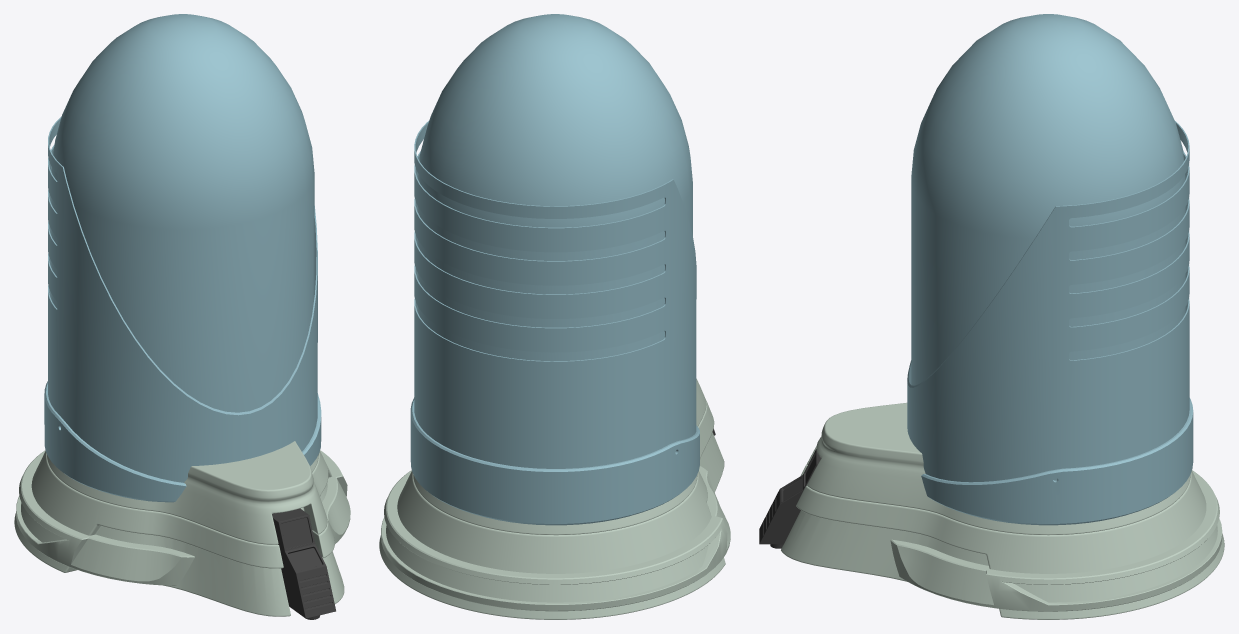
File: Tank.fbx
The picture shows the model from 3 angles, left to right: view 1: azimuth 30°, elevation 25°; view 2: azimuth 150°, elevation 25°; view 3: azimuth 270°, elevation 25°; orthographic projection. The views are drawn at different scales.
Parts seen in each view (by area): view 1: Glass_Tank, Metal_Outer, Metal_Base_Bottom, Metal_Base_Top, Metal_Attachment, Computer; view 2: Metal_Outer, Glass_Tank, Metal_Base_Bottom, Metal_Attachment, Metal_Base_Top; view 3: Metal_Outer, Glass_Tank, Metal_Base_Bottom, Metal_Base_Top, Metal_Attachment, Computer.
Boxes of the visible parts, x1=… form: Glass_Tank: x1=51, y1=14, x2=314, y2=412; Metal_Outer: x1=44, y1=116, x2=321, y2=502; Metal_Base_Bottom: x1=14, y1=451, x2=344, y2=616; Metal_Base_Top: x1=47, y1=441, x2=327, y2=544; Metal_Attachment: x1=16, y1=450, x2=350, y2=585; Computer: x1=272, y1=508, x2=335, y2=618; Metal_Outer: x1=410, y1=121, x2=699, y2=525; Glass_Tank: x1=417, y1=14, x2=692, y2=361; Metal_Base_Bottom: x1=379, y1=400, x2=725, y2=619; Metal_Attachment: x1=381, y1=466, x2=730, y2=611; Metal_Base_Top: x1=413, y1=378, x2=706, y2=535; Metal_Outer: x1=907, y1=121, x2=1193, y2=525; Glass_Tank: x1=911, y1=14, x2=1185, y2=385; Metal_Base_Bottom: x1=781, y1=464, x2=1224, y2=619; Metal_Base_Top: x1=806, y1=402, x2=1190, y2=535; Metal_Attachment: x1=890, y1=470, x2=1222, y2=611; Computer: x1=759, y1=449, x2=821, y2=544.
Size of the model in its own units: 1.98 by 3.24 by 2.62.
